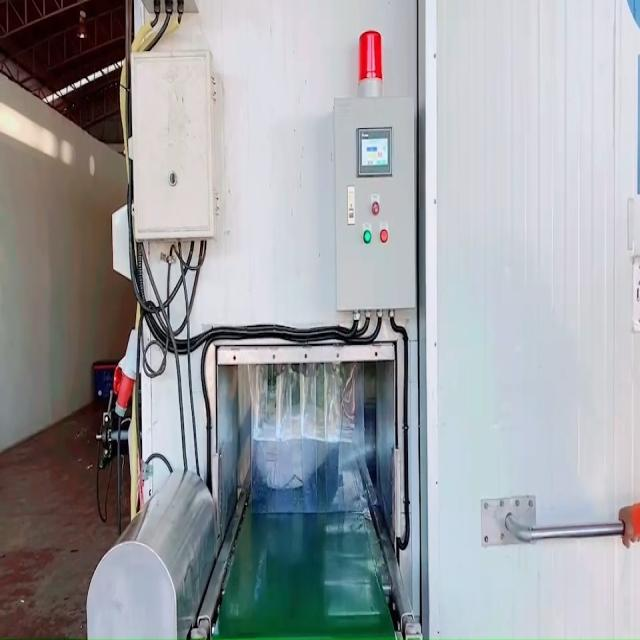ice-bag: (255, 398, 344, 495)
